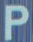Parking: (3, 2, 29, 41)
